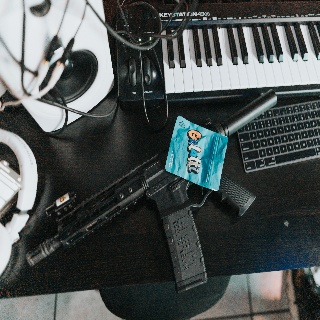rifle: (25, 88, 279, 297)
